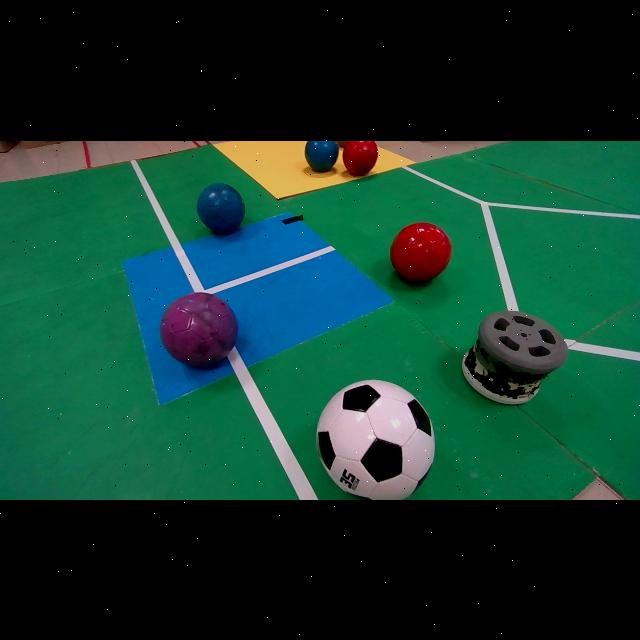B: (196, 182, 245, 234), (306, 140, 339, 171)
P: (159, 292, 238, 366)
R: (390, 221, 451, 281), (343, 140, 379, 175)
